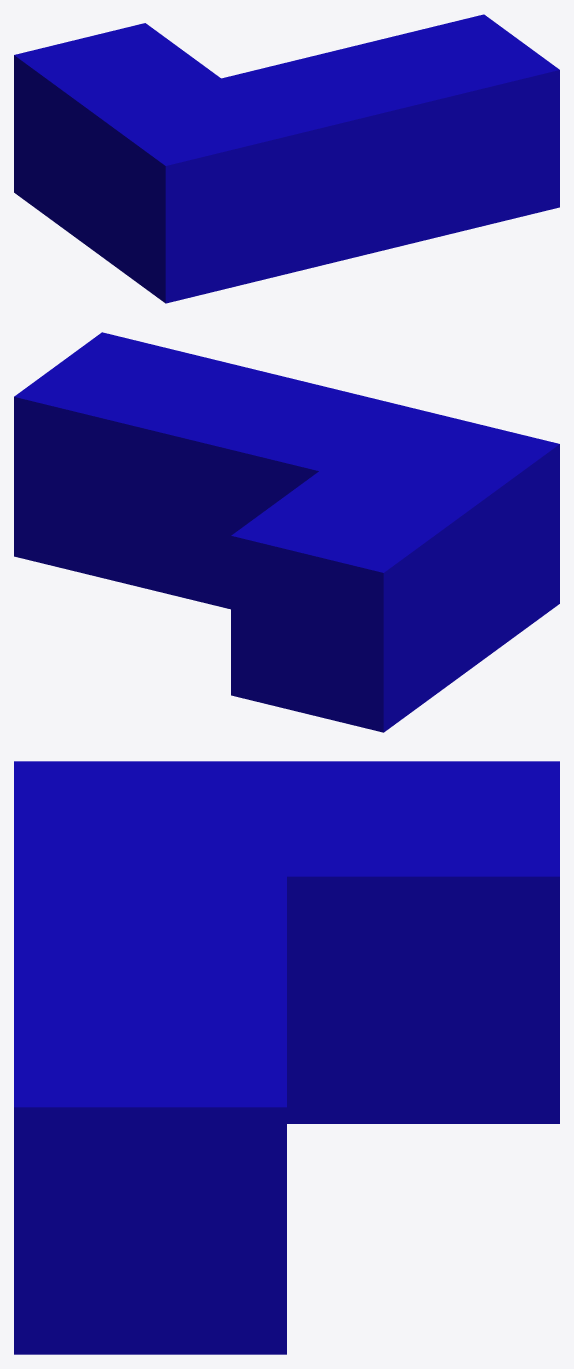
File: bluericky.glb
3 views of the same model, one above another, from view 1: azimuth 30°, elevation 25°; view 2: azimuth 150°, elevation 25°; view 3: azimuth 270°, elevation 25° (orthographic). The views are drawn at different scales.
Parts seen in each view (by area): view 1: Cube; view 2: Cube; view 3: Cube.
Part boxes in pixels (<box>): Cube: <box>14,14,559,303</box>; Cube: <box>14,332,559,732</box>; Cube: <box>14,761,559,1354</box>.
Bounding box in the file's own units: 3 × 1 × 2.
